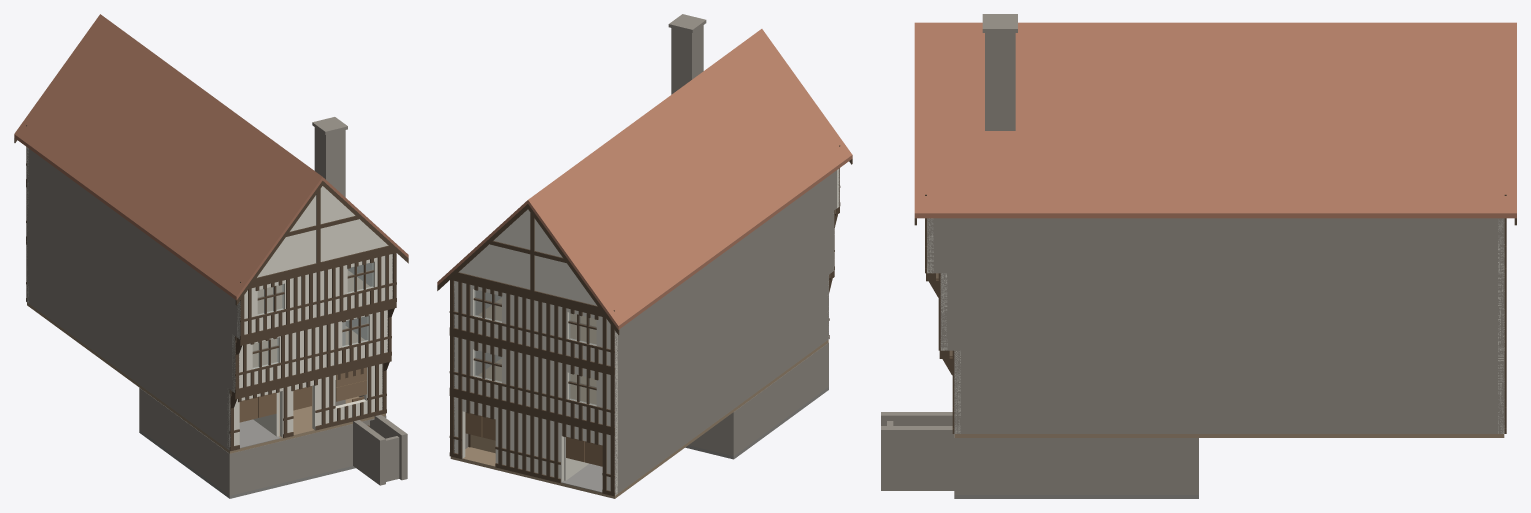
File: inn-a.glb
3 renders of one model, left to right at view 1: azimuth 30°, elevation 25°; view 2: azimuth 150°, elevation 25°; view 3: azimuth 270°, elevation 25°, orthographic. The views are drawn at different scales.
Visible parts, largest first — view 1: stone, roof, timber, render, floor, glass, flags, cobbles, inn-a-shutter-02 leaf; view 2: roof, stone, timber, render, floor, glass, cobbles, flags; view 3: stone, roof, floor, timber, render, flags.
Part boxes in pixels (x1,y1,x2,y2): stone: (26,117,407,495); roof: (14,14,408,300); timber: (14,125,408,451); render: (26,147,392,450); floor: (27,270,385,453); glass: (252,263,373,368); flags: (139,430,355,498); cobbles: (43,314,280,448); inn-a-shutter-02 leaf: (336,380,366,401); roof: (437,29,852,329); stone: (454,14,839,495); timber: (437,145,852,496); render: (454,169,839,495); floor: (450,210,835,498); glass: (474,290,596,405); cobbles: (561,341,825,492); flags: (685,387,828,459); stone: (881,14,1504,494); roof: (914,22,1516,218); floor: (936,273,1504,437); timber: (914,194,1516,433); render: (927,218,1504,433); flags: (954,495,1198,498).
Bounding box in the file's own units: 8.8 × 16.3 × 20.8.
